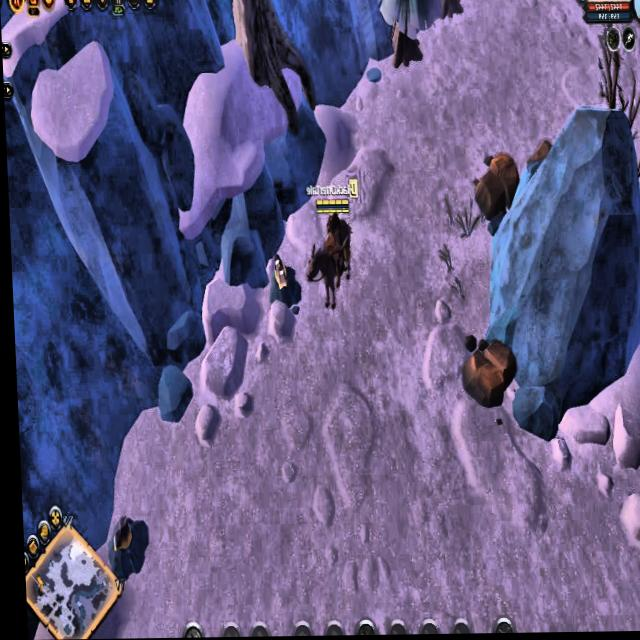copperore: (101, 508, 151, 578), (264, 255, 299, 308)
limestone: (456, 338, 517, 409), (470, 149, 523, 220), (527, 137, 552, 173)
